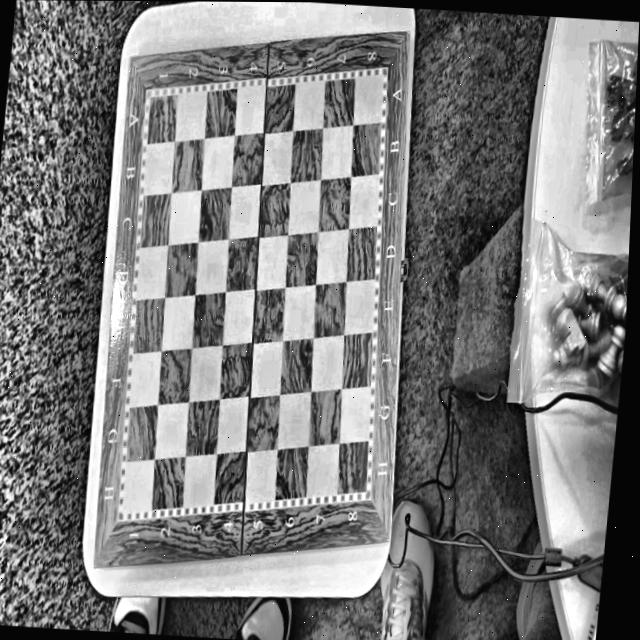chessboard: (117, 65, 388, 522)
p1: (147, 93, 156, 103)
p2: (377, 69, 386, 80)
p3: (359, 484, 369, 494)
p4: (120, 506, 130, 516)
